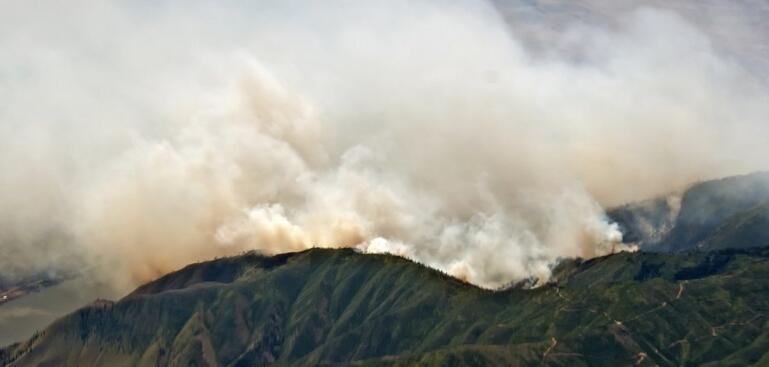smoke: (1, 1, 761, 292)
